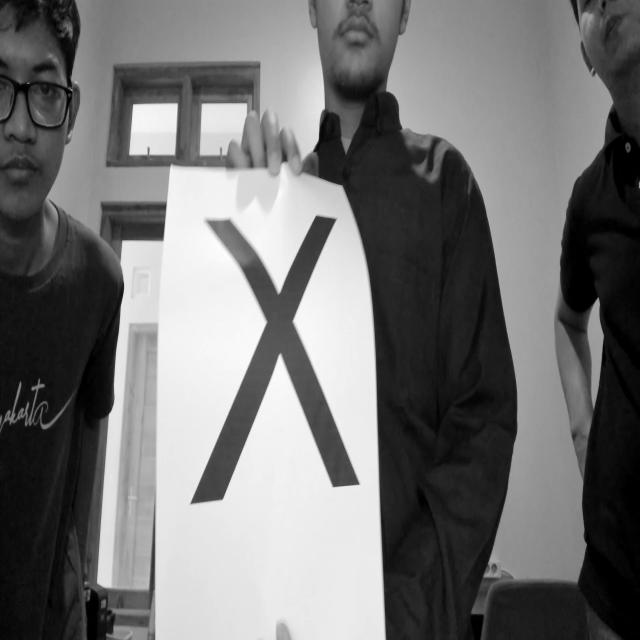x: (177, 197, 377, 529)
